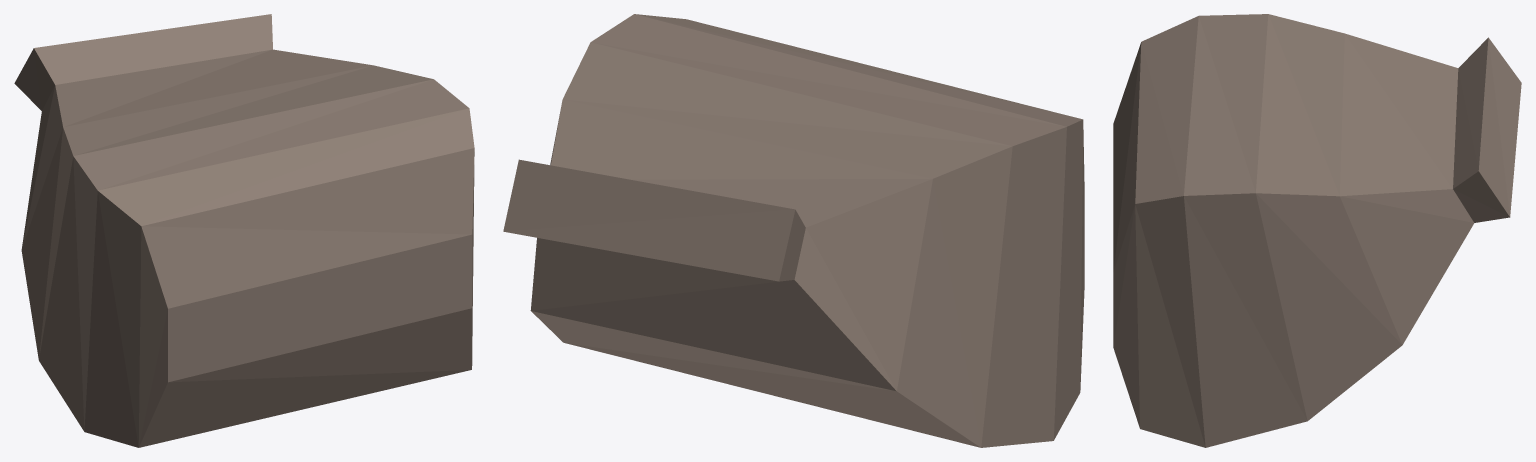
File: Sack 02.FBX
3 views of the same model, side by side, from view 1: azimuth 30°, elevation 25°; view 2: azimuth 150°, elevation 25°; view 3: azimuth 270°, elevation 25° (orthographic). The views are drawn at different scales.
Visible parts, largest first — view 1: Sack 02; view 2: Sack 02; view 3: Sack 02.
Boxes of the visible parts, bbox=[...] form: Sack 02: bbox=[14, 14, 474, 447]; Sack 02: bbox=[503, 14, 1084, 447]; Sack 02: bbox=[1113, 14, 1521, 447].
Bounding box in the file's own units: 47.53 × 45.65 × 33.48.
